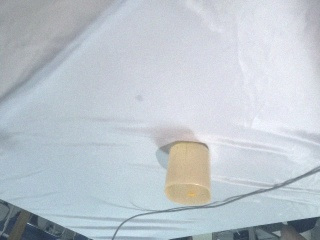cup: (162, 139, 215, 207)
